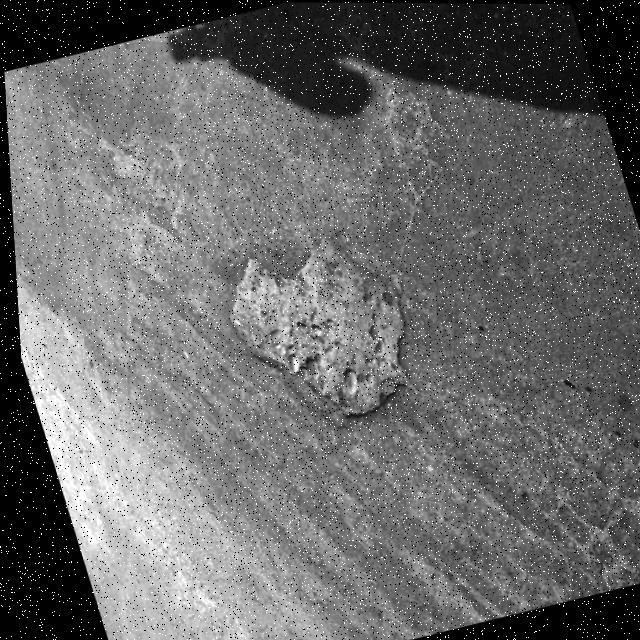pothole: (192, 197, 440, 460)
